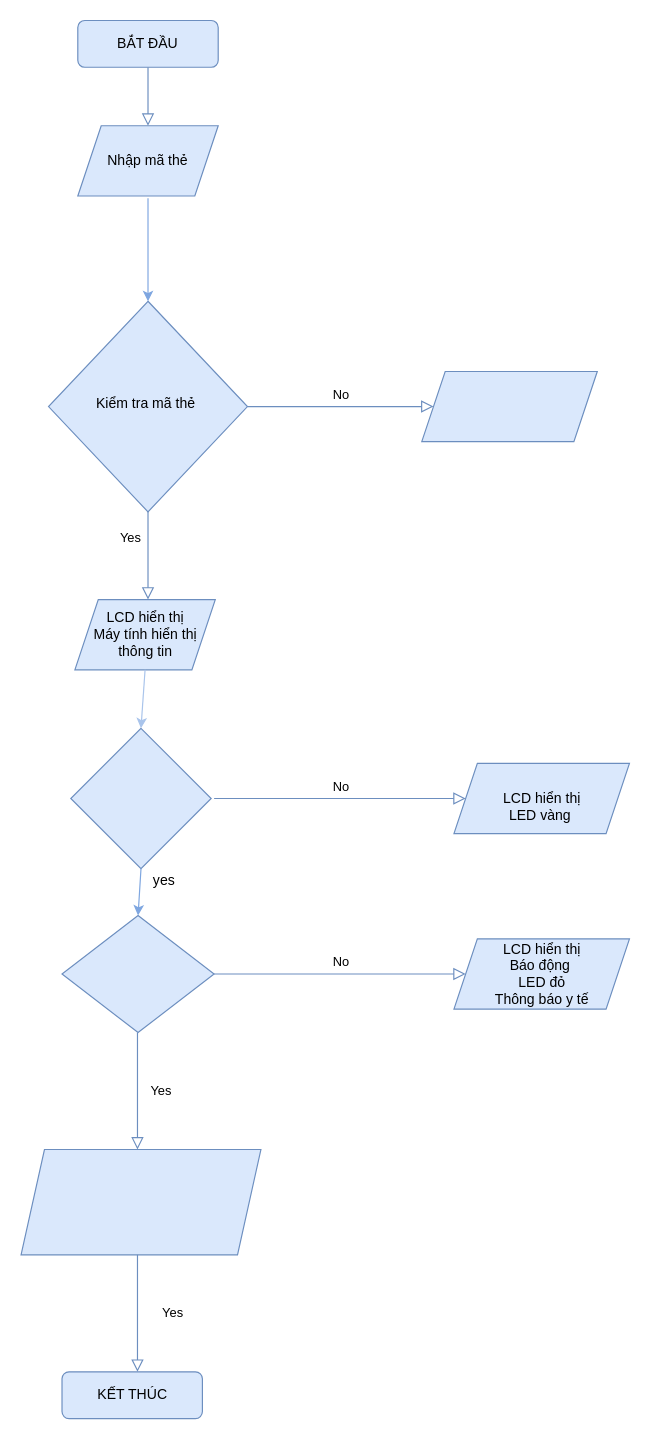
Image size: 649x1439. Some labels were removed from this diagram. The box of each missing label's shape, as (x1, y1, x2, y2) in pixels:
LCD hiển thị: (421, 370, 597, 442)
LED xanh Điểm danh Điện thoại người điểm danh thông báo xác nhận: (20, 1148, 261, 1255)
Thân nhiệt bình thường: (61, 914, 214, 1033)
Xác khuẩn tay: (70, 727, 211, 869)
